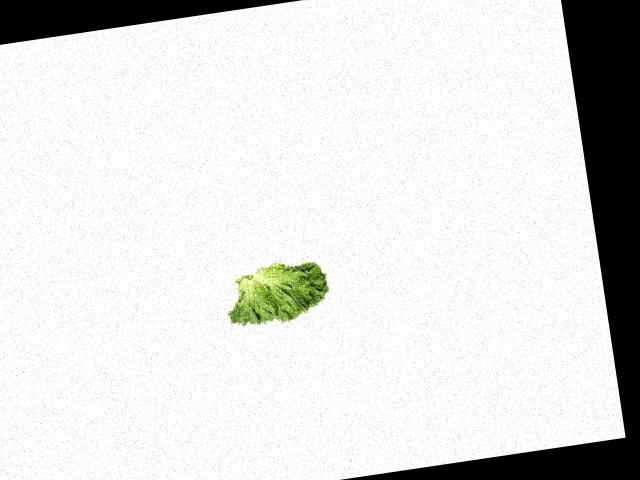lettuce: (222, 251, 334, 337)
